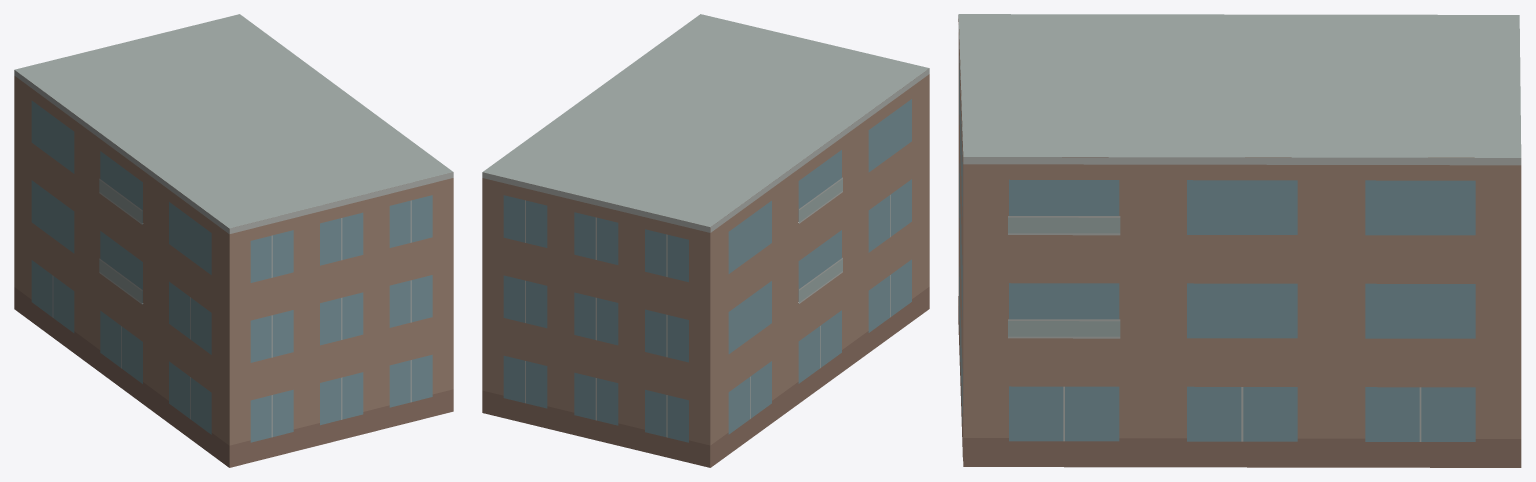
Rendered from survey-upis-32918589.glb.
3 renders of one model, left to right at view 1: azimuth 30°, elevation 25°; view 2: azimuth 150°, elevation 25°; view 3: azimuth 270°, elevation 25°, orthographic. The views are drawn at different scales.
Visible parts, largest first — view 1: survey-upis-32918589.tmp; view 2: survey-upis-32918589.tmp; view 3: survey-upis-32918589.tmp.
Boxes of the visible parts, box(x1,y1,x2,y2) form: survey-upis-32918589.tmp: box(14, 14, 453, 467); survey-upis-32918589.tmp: box(482, 14, 929, 467); survey-upis-32918589.tmp: box(958, 14, 1521, 467).
Bounding box in the file's own units: 10.17 × 10.2 × 16.79.
